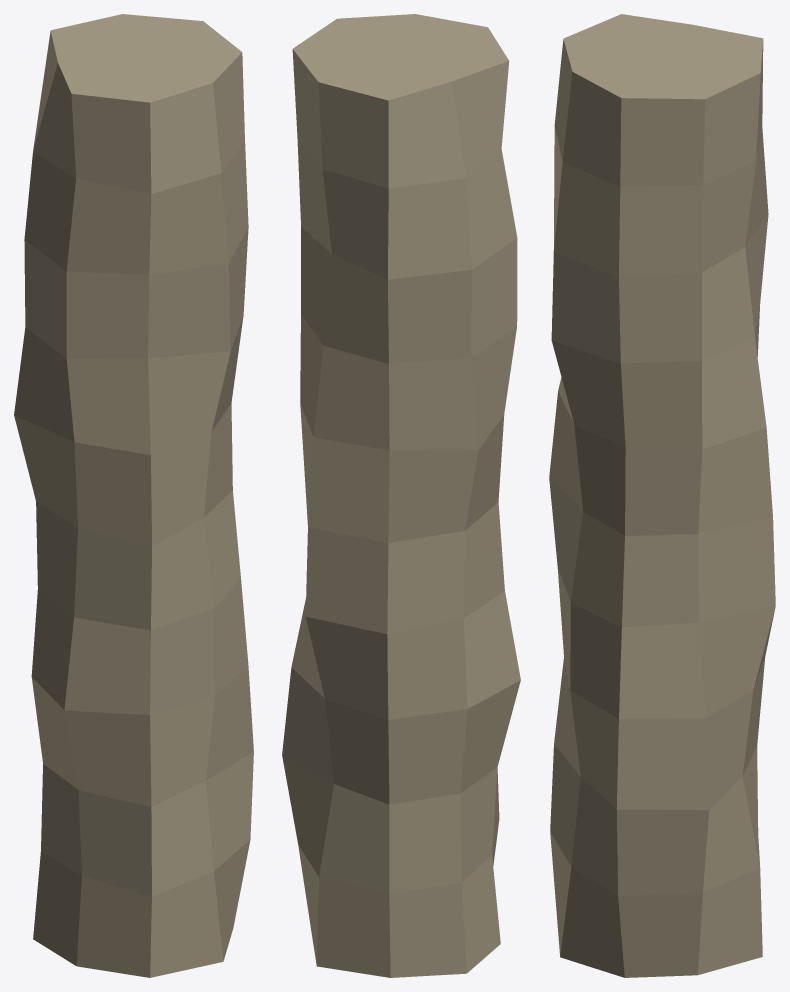
The model's file is SM_SB_Kit_RockCorner.fbx.
3 renders of one model, left to right at view 1: azimuth 30°, elevation 25°; view 2: azimuth 150°, elevation 25°; view 3: azimuth 270°, elevation 25°, orthographic.
Parts seen in each view (by area): view 1: SM_SB_Kit_RockCorner; view 2: SM_SB_Kit_RockCorner; view 3: SM_SB_Kit_RockCorner.
Part boxes in pixels (bbox=[...]): SM_SB_Kit_RockCorner: bbox=[14, 14, 253, 977]; SM_SB_Kit_RockCorner: bbox=[282, 14, 520, 977]; SM_SB_Kit_RockCorner: bbox=[549, 14, 775, 977].
Size of the model in its own units: 96.83 by 96.47 by 415.
